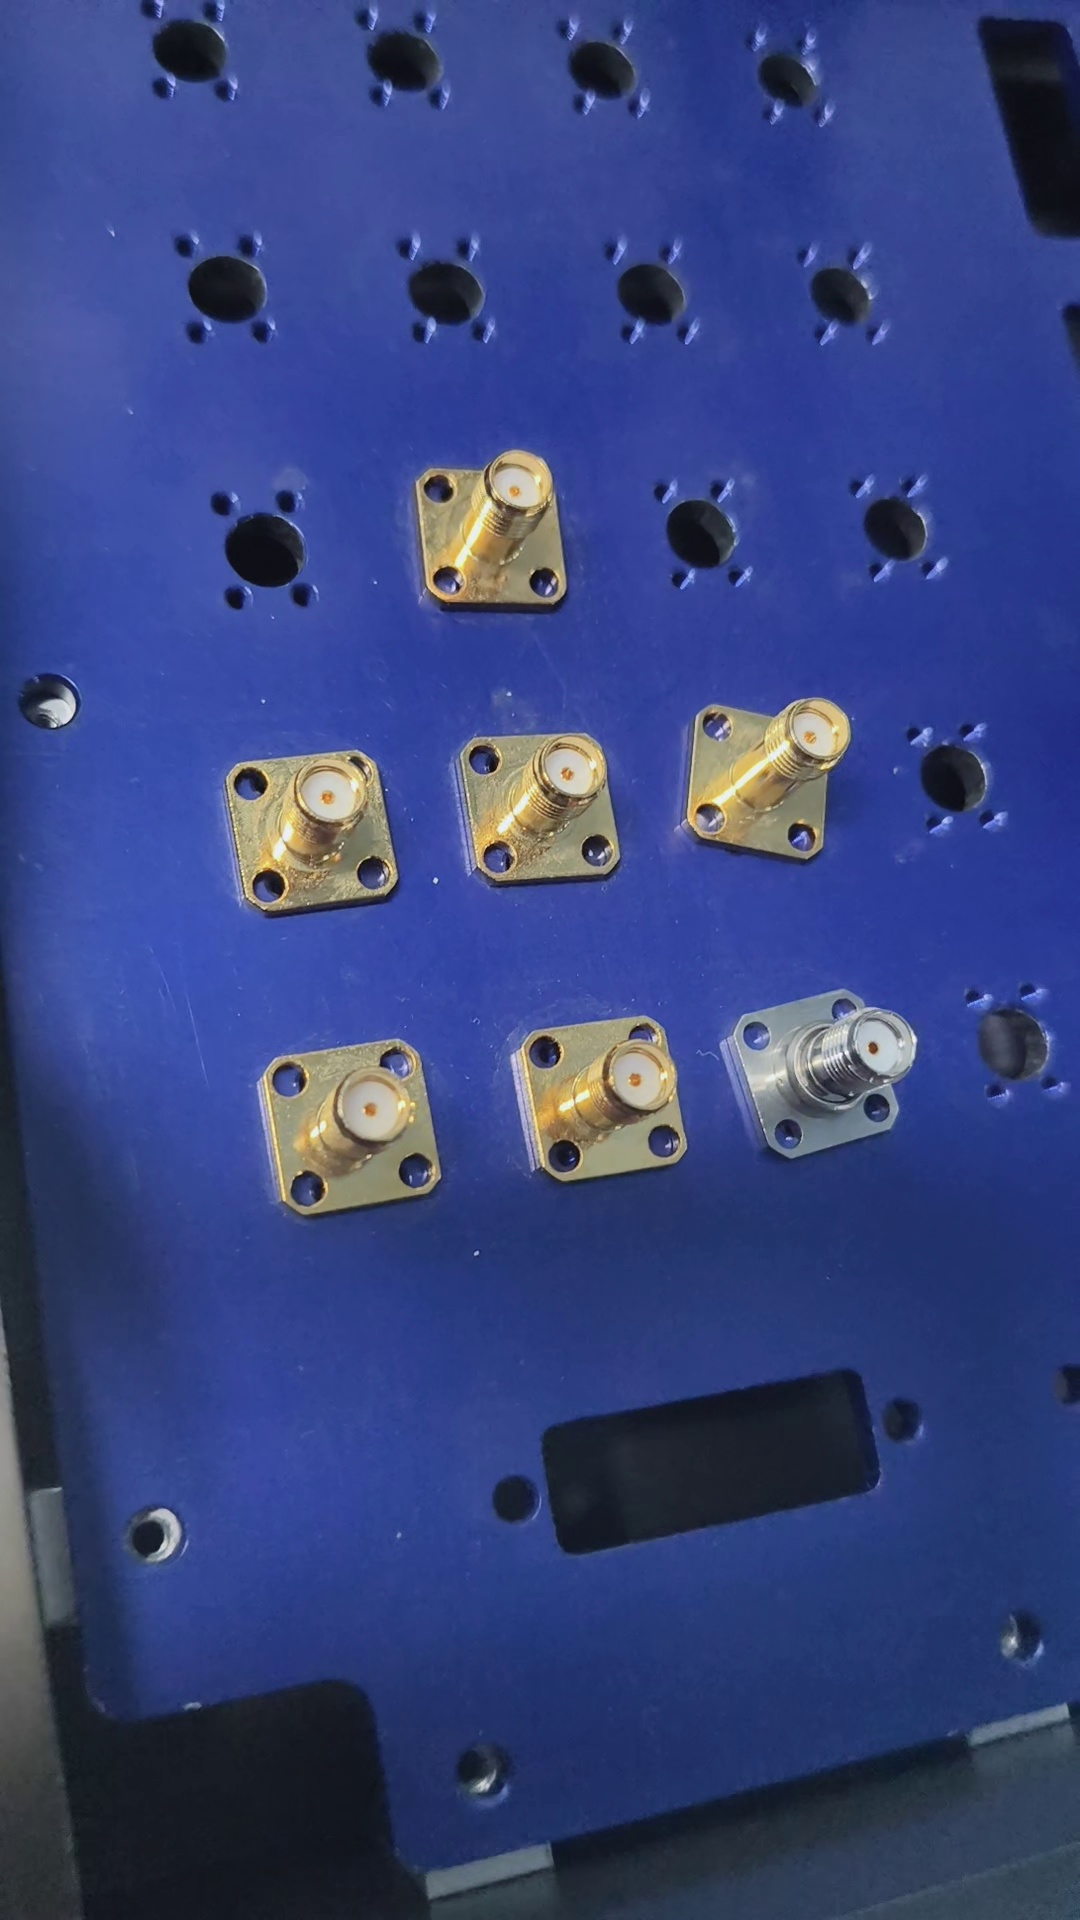SMA: (258, 1036, 451, 1226), (725, 988, 920, 1162), (517, 1007, 694, 1185), (223, 744, 404, 910), (683, 698, 857, 864), (454, 728, 622, 890), (409, 450, 579, 611)
